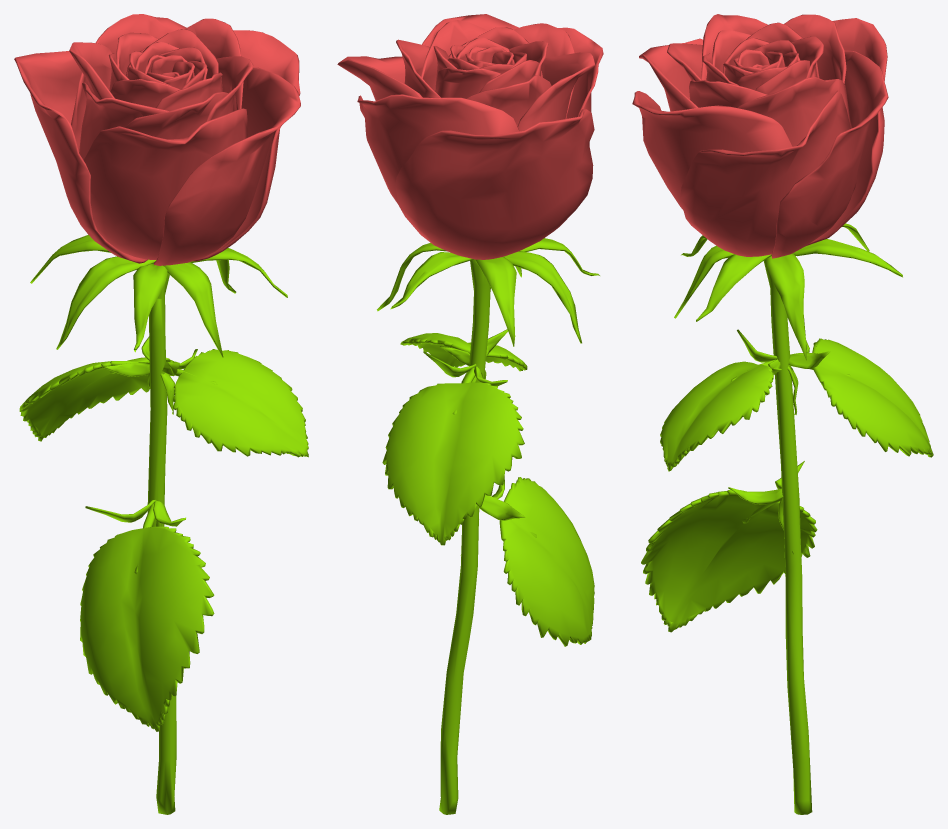
Rendered from Rose.glb.
3 renders of one model, left to right at view 1: azimuth 30°, elevation 25°; view 2: azimuth 150°, elevation 25°; view 3: azimuth 270°, elevation 25°, orthographic. The views are drawn at different scales.
Parts seen in each view (by area): view 1: 未优化002; view 2: 未优化002; view 3: 未优化002.
Part boxes in pixels (left/top/right/bottom): 未优化002: left=14, top=14, right=308, bottom=814; 未优化002: left=337, top=14, right=603, bottom=814; 未优化002: left=632, top=14, right=933, bottom=814.
Bounding box in the file's own units: 127 × 380 × 137.
